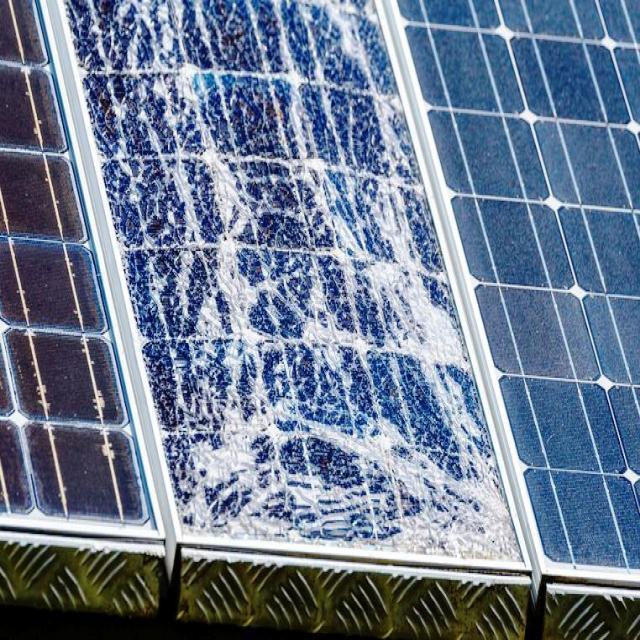faulty: (56, 0, 532, 580)
no faulty: (398, 2, 638, 582)
